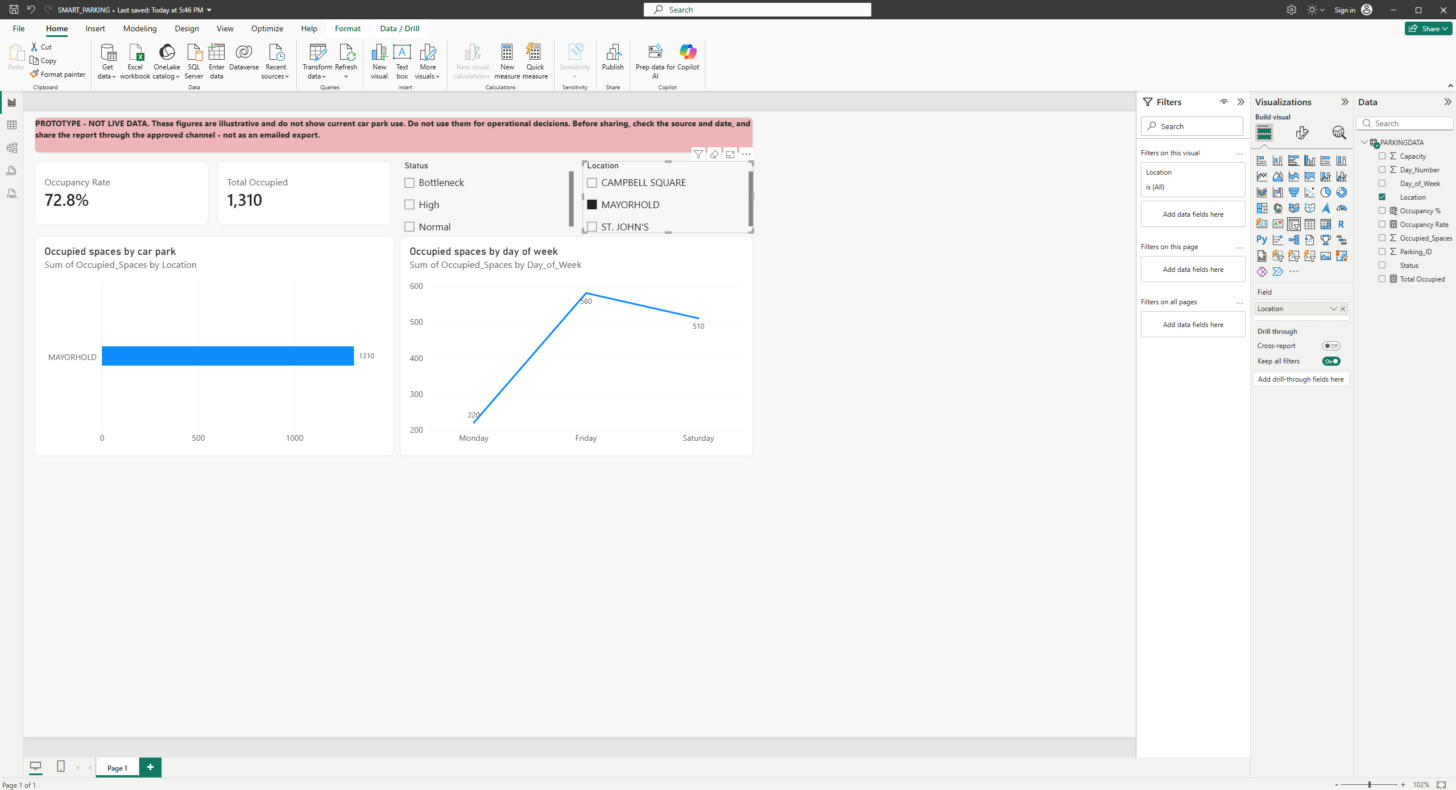

The dashboard page shown, as its layout file describes it:
{"tool":"powerbi","page":{"name":"Page 1","canvas":[1920,1080],"ordinal":0},"visuals":[{"type":"clusteredBarChart","title":"Occupied spaces by car park","fields":{"Category":["PARKINGDATA.Location"],"Y":["Sum(PARKINGDATA.Occupied_Spaces)"]},"box":[20,215,620,380],"z":0},{"type":"lineChart","title":"Occupied spaces by day of week","fields":{"Category":["PARKINGDATA.Day_of_Week"],"Y":["Sum(PARKINGDATA.Occupied_Spaces)"]},"box":[650,215,610,380],"z":1},{"type":"cardVisual","fields":{"Data":["PARKINGDATA.Occupancy Rate"]},"box":[20,85,300,110],"z":2},{"type":"cardVisual","fields":{"Data":["PARKINGDATA.Total Occupied"]},"box":[335,85,300,110],"z":3},{"type":"slicer","fields":{"Values":["PARKINGDATA.Status"]},"box":[650,85,300,125],"z":4},{"type":"slicer","fields":{"Values":["PARKINGDATA.Location"]},"box":[965,85,295,125],"z":5},{"type":"textbox","box":[20,10,1240,62],"z":6}]}

Visuals, with their boxes on the page's 1920x1080 design canvas (x1, y1, x2, y2). These are canvas units, not pixel positions in the 1456x790 screenshot, which may show the page scaled, cropped or inside an application window:
"Occupied spaces by car park" clusteredBarChart: l=20, t=215, r=640, b=595
"Occupied spaces by day of week" lineChart: l=650, t=215, r=1260, b=595
cardVisual - PARKINGDATA.Occupancy Rate: l=20, t=85, r=320, b=195
cardVisual - PARKINGDATA.Total Occupied: l=335, t=85, r=635, b=195
slicer - PARKINGDATA.Status: l=650, t=85, r=950, b=210
slicer - PARKINGDATA.Location: l=965, t=85, r=1260, b=210
textbox: l=20, t=10, r=1260, b=72
